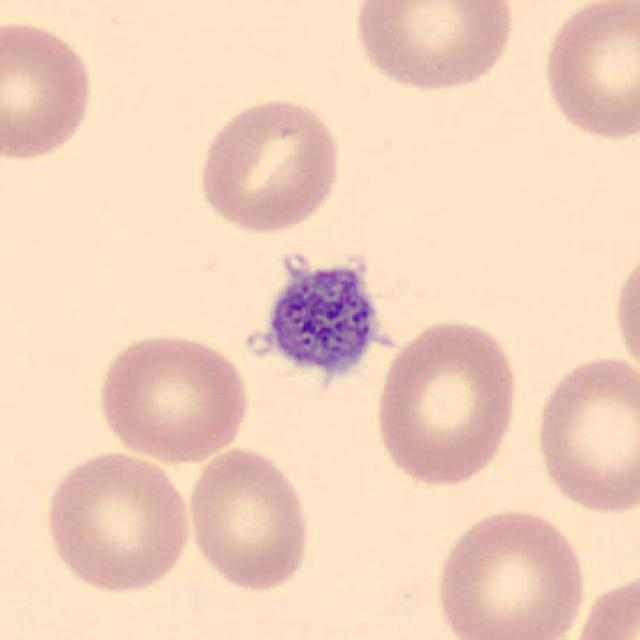Platelets: (255, 248, 390, 384)
RBC: (370, 314, 524, 492), (39, 446, 194, 596), (192, 92, 345, 236), (92, 328, 252, 465), (430, 504, 590, 640), (183, 443, 315, 594), (530, 349, 638, 518), (348, 0, 521, 95), (537, 0, 638, 145), (0, 16, 98, 164), (565, 567, 639, 640), (610, 242, 640, 386)
